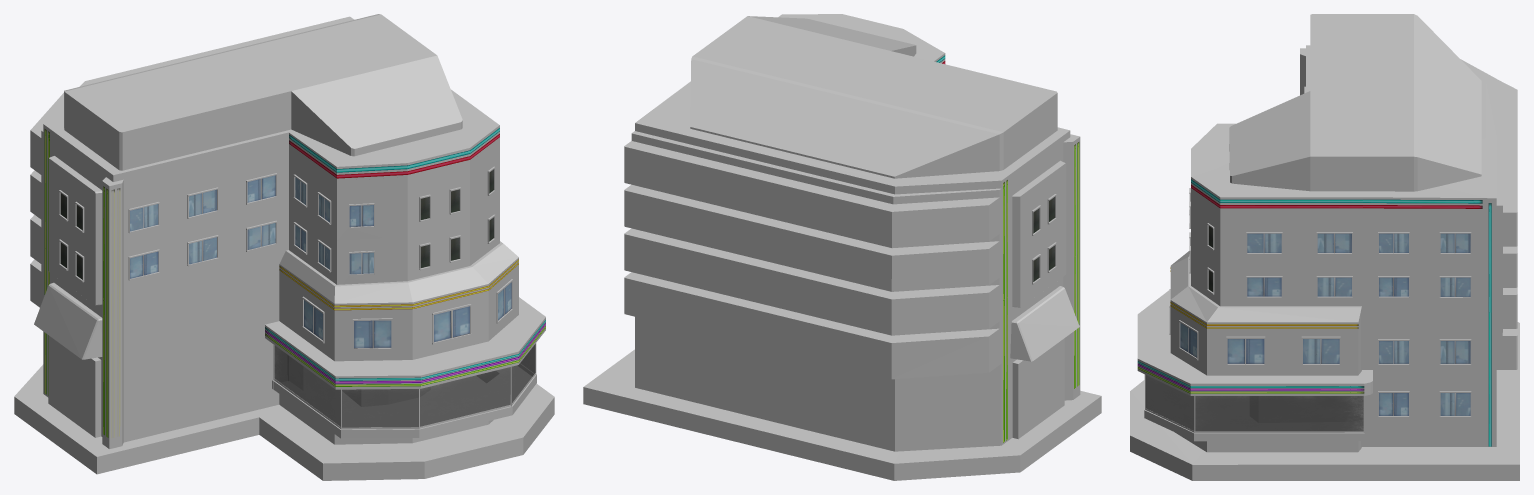
Rendered from bldg_mall_09a.fbx.
3 renders of one model, left to right at view 1: azimuth 30°, elevation 25°; view 2: azimuth 150°, elevation 25°; view 3: azimuth 270°, elevation 25°, orthographic. The views are drawn at different scales.
Visible parts, largest first — view 1: bldg_mall_09a; view 2: bldg_mall_09a; view 3: bldg_mall_09a.
Part boxes in pixels (x1=…): bldg_mall_09a: x1=14, y1=14, x2=554, y2=480; bldg_mall_09a: x1=583, y1=14, x2=1101, y2=480; bldg_mall_09a: x1=1130, y1=14, x2=1519, y2=480.
Size of the model in its own units: 20.21 by 15.58 by 18.29.
